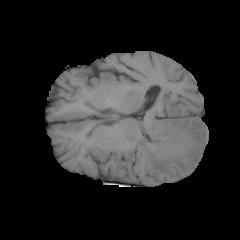glioma: (134, 118, 204, 179)
